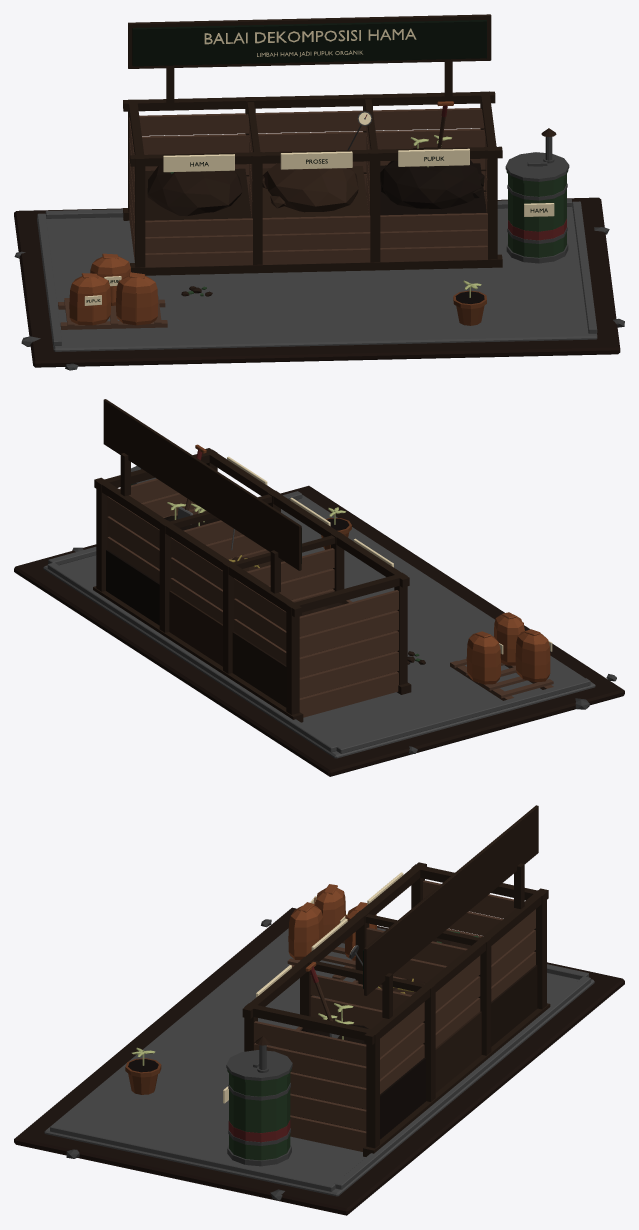
File: komposer.fbx
The picture shows the model from 3 angles, top to bottom: view 1: azimuth 30°, elevation 25°; view 2: azimuth 150°, elevation 25°; view 3: azimuth 270°, elevation 25°; orthographic projection. The views are drawn at different scales.
Visible parts, largest first — view 1: Compost_Pad; view 2: Compost_Pad; view 3: Compost_Pad.
Part boxes in pixels (box(x1,y1,x2,y2)): Compost_Pad: box(14, 14, 624, 370); Compost_Pad: box(14, 399, 624, 776); Compost_Pad: box(14, 805, 624, 1215).
Bounding box in the file's own units: 335 × 113 × 286.
